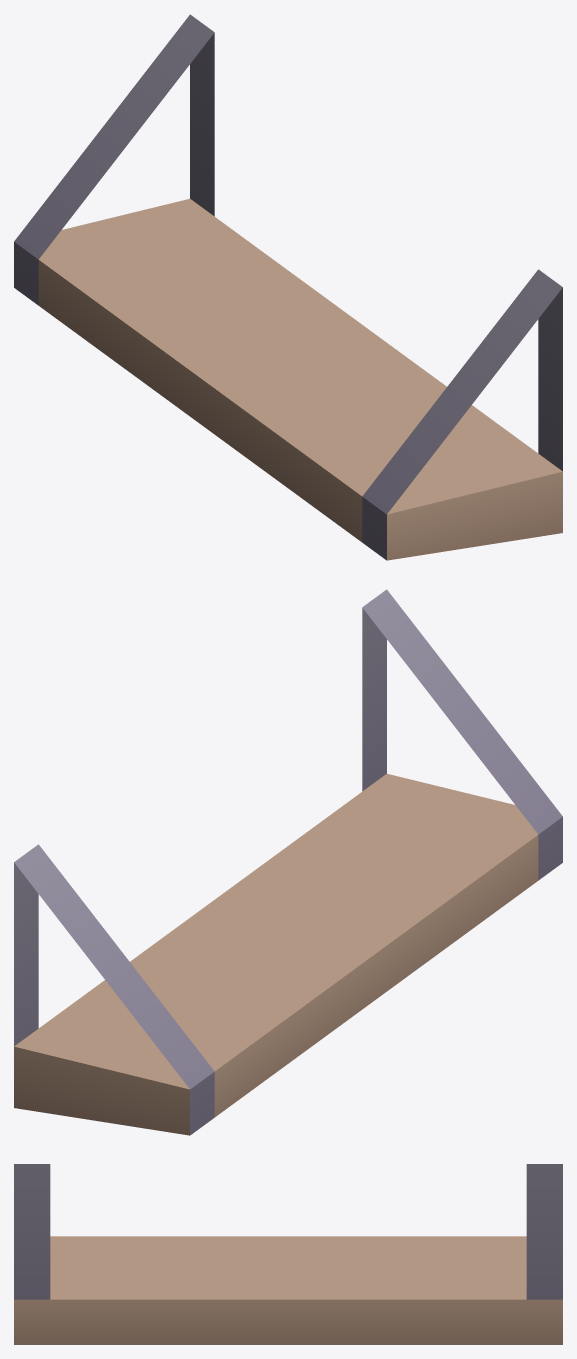
File: shelf-hanging-long (%wall)_0.glb
3 renders of one model, top to bottom at view 1: azimuth 30°, elevation 25°; view 2: azimuth 150°, elevation 25°; view 3: azimuth 270°, elevation 25°, orthographic. The views are drawn at different scales.
Parts seen in each view (by area): view 1: shelf-hanging-long (%wall); view 2: shelf-hanging-long (%wall); view 3: shelf-hanging-long (%wall).
Part boxes in pixels (x1,y1,x2,y2): shelf-hanging-long (%wall): [14, 14, 562, 560]; shelf-hanging-long (%wall): [14, 589, 562, 1135]; shelf-hanging-long (%wall): [14, 1164, 562, 1344].
Bounding box in the file's own units: 0.3 × 0.4 × 1.1.
